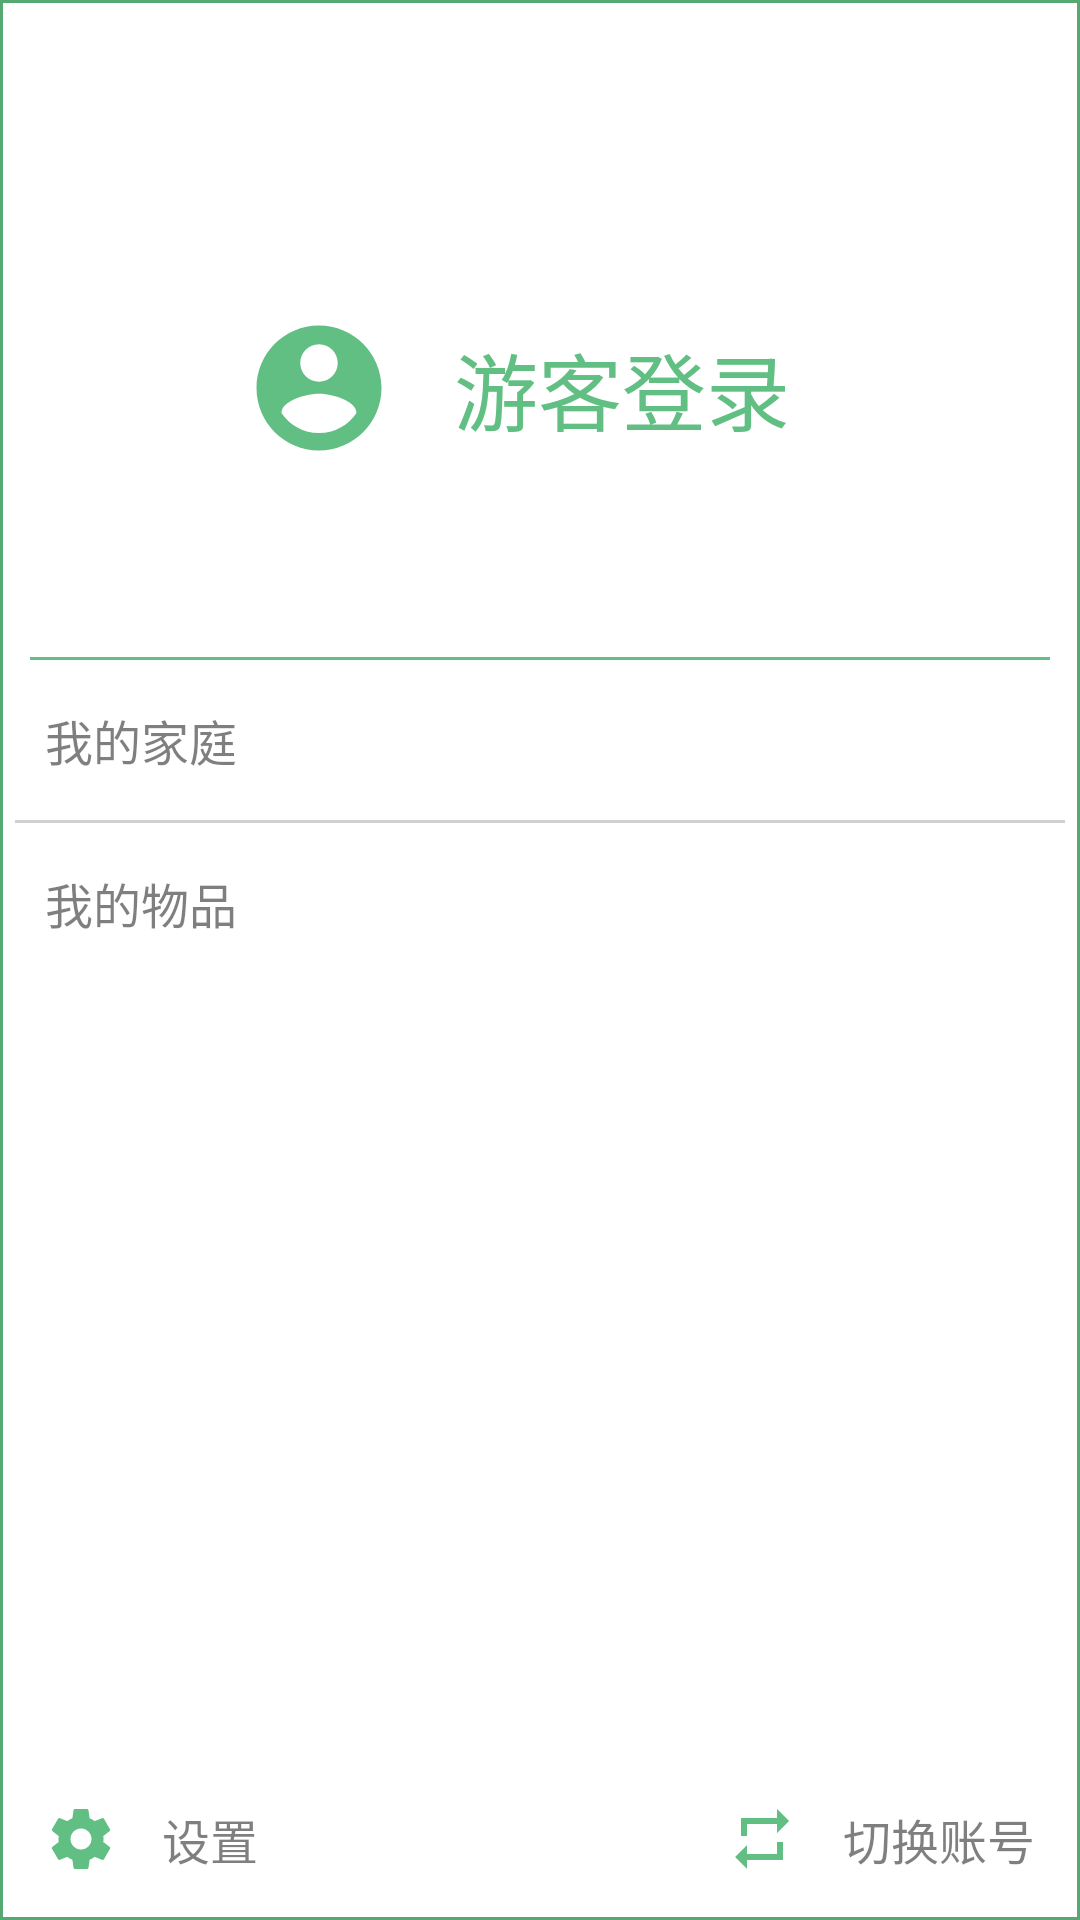

Named icons in this screenshot (1080*1920) and their bounding boxes, (x1, y1, x2, y2):
account: (256, 325, 382, 451)
